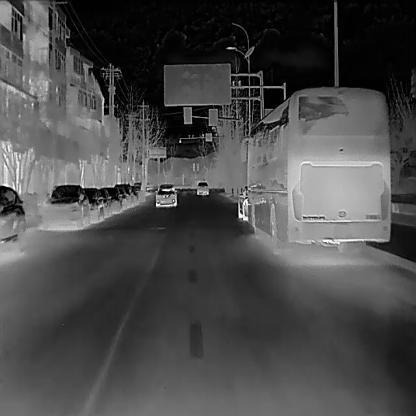car: (239, 86, 391, 253), (40, 183, 90, 231), (0, 184, 26, 253), (79, 185, 105, 224), (237, 182, 255, 219), (154, 181, 178, 207), (104, 184, 122, 215), (97, 185, 110, 217), (196, 179, 209, 196)
